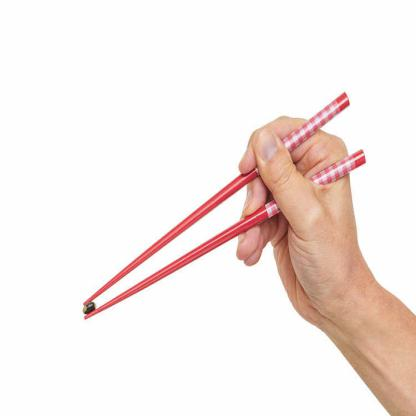chopstick: (83, 92, 351, 306), (83, 149, 367, 319)
